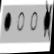correct: (2, 10, 12, 32)
not correct: (41, 0, 54, 42)
